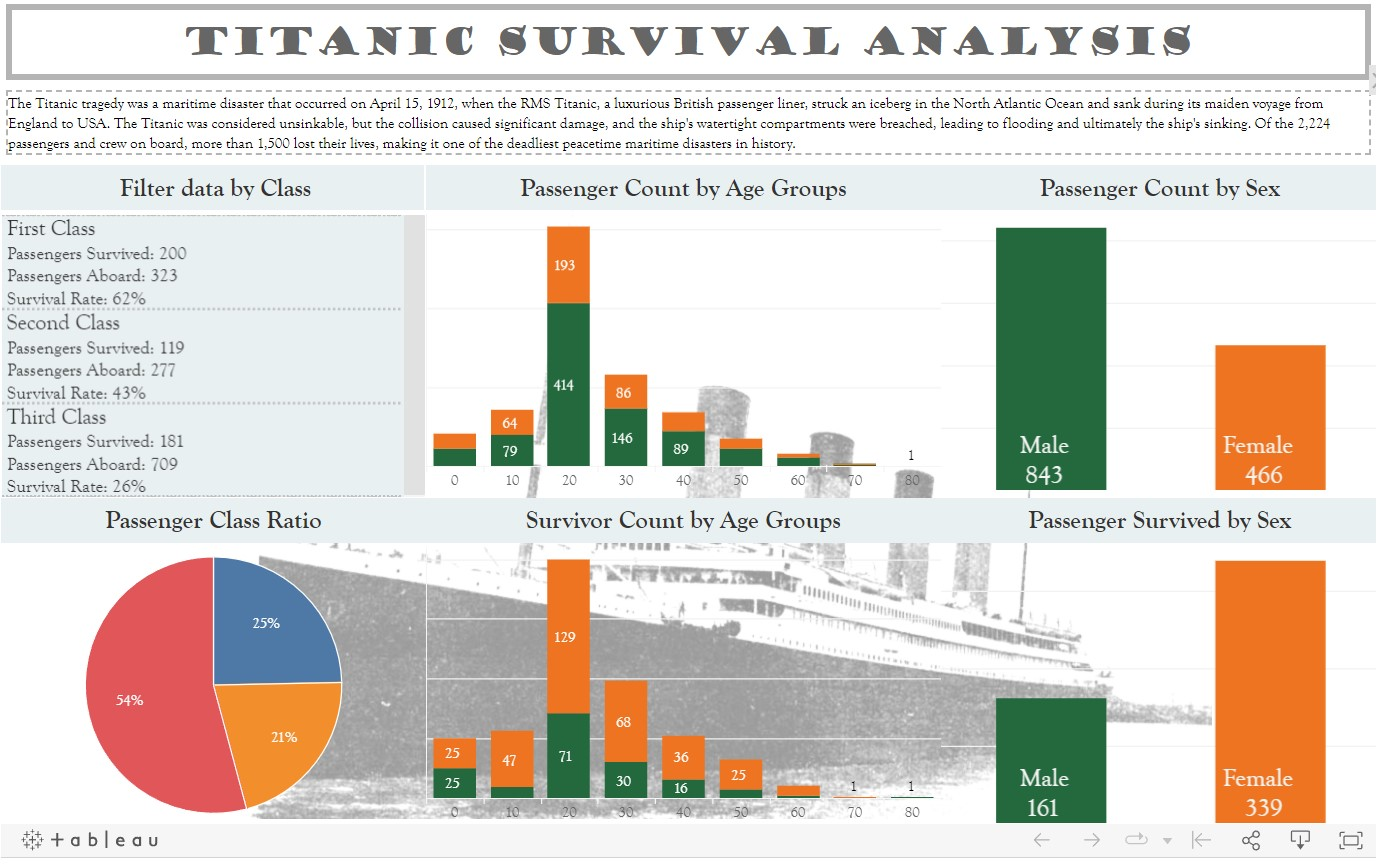

Layout of this report page (visuals, bound fields, positions):
{"tool":"tableau","page":{"name":"Dashboard","canvas":[1100,660],"ordinal":0},"visuals":[{"type":"text","box":[0,0,1100,69]},{"type":"text","box":[0,69,1100,60]},{"type":"image","param":"Image/Untitled.jpeg","box":[0,129,1100,531]},{"type":"worksheet","title":"Class","mark":"Automatic","rows":["Calculation_891431271078285316"],"box":[0,133,340,265]},{"type":"worksheet","title":"Age Count","mark":"Bar","rows":["age"],"cols":["Age (bin)"],"box":[340,133,412,260]},{"type":"worksheet","title":"Passenger count by sex","mark":"Bar","rows":["Calculation_891431271072145409","Calculation_266275348535169044"],"cols":["Calculation_891431271072145409"],"box":[752,133,350,260]},{"type":"worksheet","title":"Class Pie","mark":"Pie","box":[0,399,340,260]},{"type":"worksheet","title":"Age Survived","mark":"Bar","rows":["Calculation_891431271073746947"],"cols":["Age (bin)"],"box":[340,399,412,260]},{"type":"worksheet","title":"Passenger survived by sex","mark":"Bar","rows":["survived","Calculation_266275348535169044"],"cols":["Calculation_891431271072145409"],"box":[752,399,350,260]}]}

Visuals, with their boxes on the page's 1100x660 design canvas (x1, y1, x2, y2). These are canvas units, not pixel positions in the 1378x865 screenshot, which may show the page scaled, cropped or inside an application window:
text: bbox=(0, 0, 1100, 69)
text: bbox=(0, 69, 1100, 129)
image: bbox=(0, 129, 1100, 660)
"Class" worksheet: bbox=(0, 133, 340, 398)
"Age Count" worksheet (Bar marks): bbox=(340, 133, 752, 393)
"Passenger count by sex" worksheet (Bar marks): bbox=(752, 133, 1102, 393)
"Class Pie" worksheet (Pie marks): bbox=(0, 399, 340, 659)
"Age Survived" worksheet (Bar marks): bbox=(340, 399, 752, 659)
"Passenger survived by sex" worksheet (Bar marks): bbox=(752, 399, 1102, 659)
